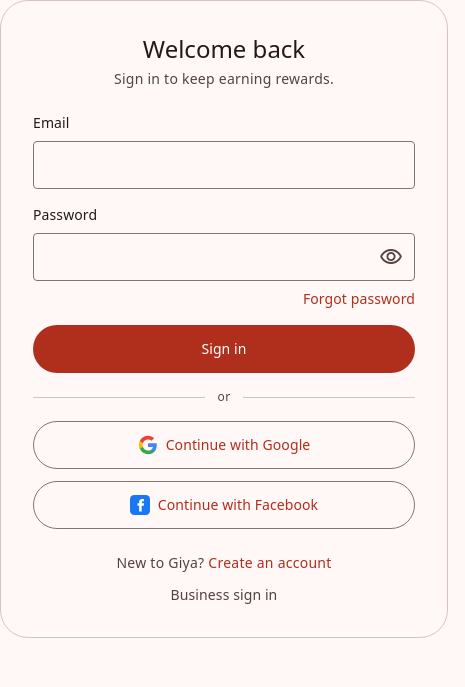
LoginPage submit › shows a friendly message for invalid credentials instead of the raw Supabase error
Type "a@b.com" into the field labelled "Email" at (224, 165), box top-left (33, 141), bottom-right (415, 189)
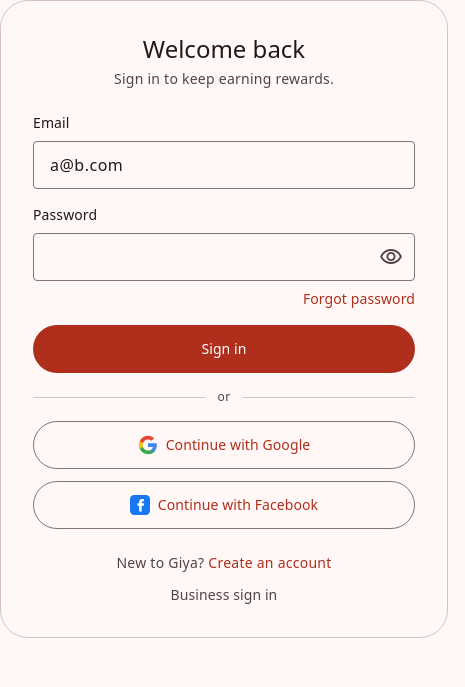
Type "wrong" into the password field labelled "Password" at (224, 257), box top-left (33, 233), bottom-right (415, 281)
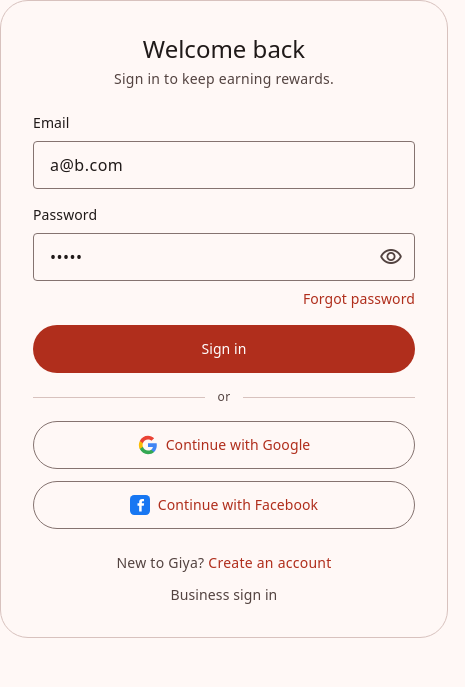
Click the button "Sign in" at (224, 349), box top-left (33, 325), bottom-right (415, 373)
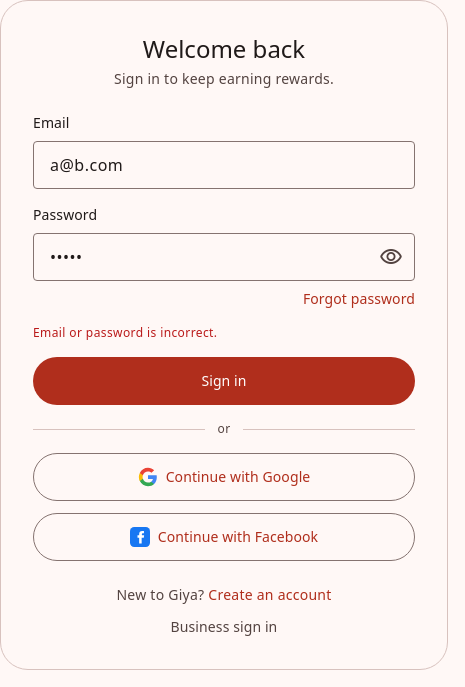
Expected: the text "Email or password is incorrect." is shown, top-left (33, 324), bottom-right (217, 341)
